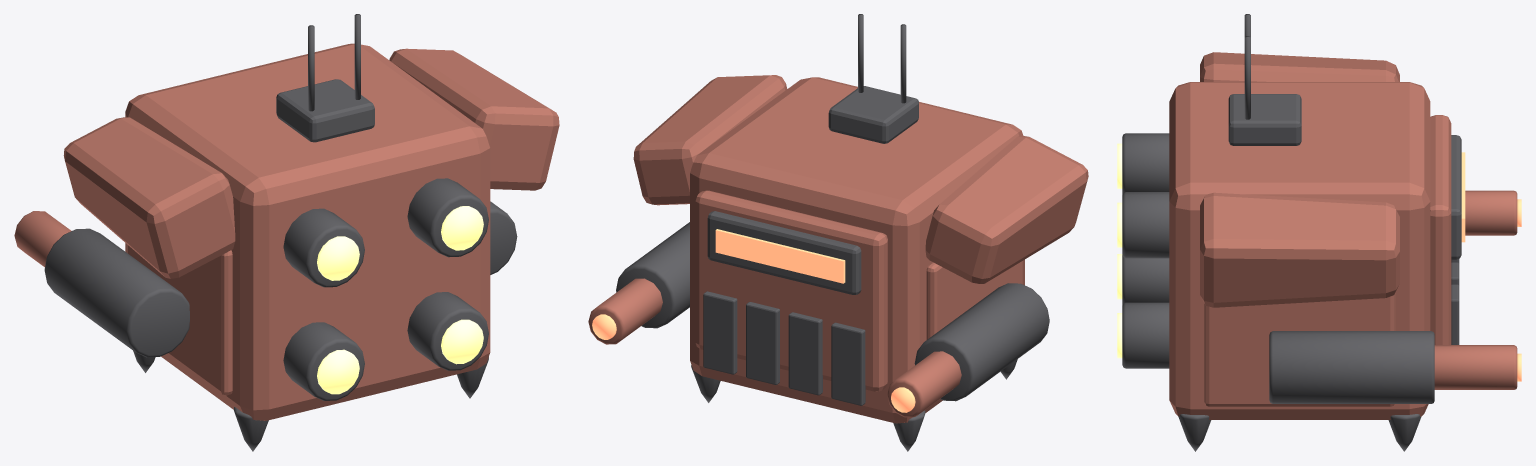
Rendered from waechter.glb.
The picture shows the model from 3 angles, left to right: view 1: azimuth 30°, elevation 25°; view 2: azimuth 150°, elevation 25°; view 3: azimuth 270°, elevation 25°; orthographic projection. The views are drawn at different scales.
Visible parts, largest first — view 1: Kern, Schulter-1, Arm-1, Schulter1, Seitenplatte-1, Sensorblock, Triebwerk10.35, Triebwerk-10.35, Triebwerk1-0.35, Triebwerk-1-0.35, Kanone-1, Duese-10.35 (+7 smaller); view 2: Kern, Brustpanzer, Schulter-1, Schulter1, Arm-1, Visierrahmen, Arm1, Sensorblock, Seitenplatte-1, Visier, Schlitz0, Schlitz1 (+8 smaller); view 3: Kern, Schulter1, Arm1, Seitenplatte1, Brustpanzer, Schulter-1, Kanone1, Sensorblock, Triebwerk1-0.35, Triebwerk10.35, Triebwerk-10.35, Kanone-1 (+7 smaller).
Part boxes in pixels (x1,y1,x2,y2): Kern: [125, 43, 490, 420]; Schulter-1: [63, 117, 235, 278]; Arm-1: [44, 228, 189, 357]; Schulter1: [389, 48, 559, 190]; Seitenplatte-1: [127, 245, 232, 395]; Sensorblock: [276, 79, 374, 142]; Triebwerk10.35: [407, 178, 488, 257]; Triebwerk-10.35: [283, 208, 364, 287]; Triebwerk1-0.35: [407, 292, 488, 370]; Triebwerk-1-0.35: [283, 322, 364, 400]; Kanone-1: [14, 211, 71, 267]; Duese-10.35: [317, 236, 359, 280]; Kern: [690, 77, 1024, 423]; Brustpanzer: [695, 190, 887, 391]; Schulter-1: [925, 135, 1088, 283]; Schulter1: [633, 75, 787, 205]; Arm-1: [914, 283, 1049, 401]; Visierrahmen: [707, 211, 861, 294]; Arm1: [616, 222, 689, 328]; Sensorblock: [828, 86, 918, 143]; Seitenplatte-1: [926, 261, 1022, 339]; Visier: [715, 229, 845, 283]; Schlitz0: [831, 322, 865, 405]; Schlitz1: [788, 312, 822, 395]; Kern: [1169, 82, 1430, 419]; Schulter1: [1200, 192, 1399, 307]; Arm1: [1269, 331, 1434, 403]; Seitenplatte1: [1204, 292, 1395, 406]; Brustpanzer: [1430, 115, 1451, 344]; Schulter-1: [1200, 52, 1399, 81]; Kanone1: [1434, 345, 1517, 389]; Sensorblock: [1228, 94, 1301, 145]; Triebwerk1-0.35: [1122, 302, 1169, 368]; Triebwerk10.35: [1122, 192, 1169, 258]; Triebwerk-10.35: [1122, 133, 1169, 194]; Kanone-1: [1465, 190, 1517, 235].
Bounding box in the file's own units: 2.65 × 2.37 × 2.32.
